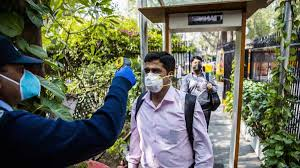mask: (1, 52, 46, 110), (141, 55, 168, 95), (191, 55, 203, 71)
